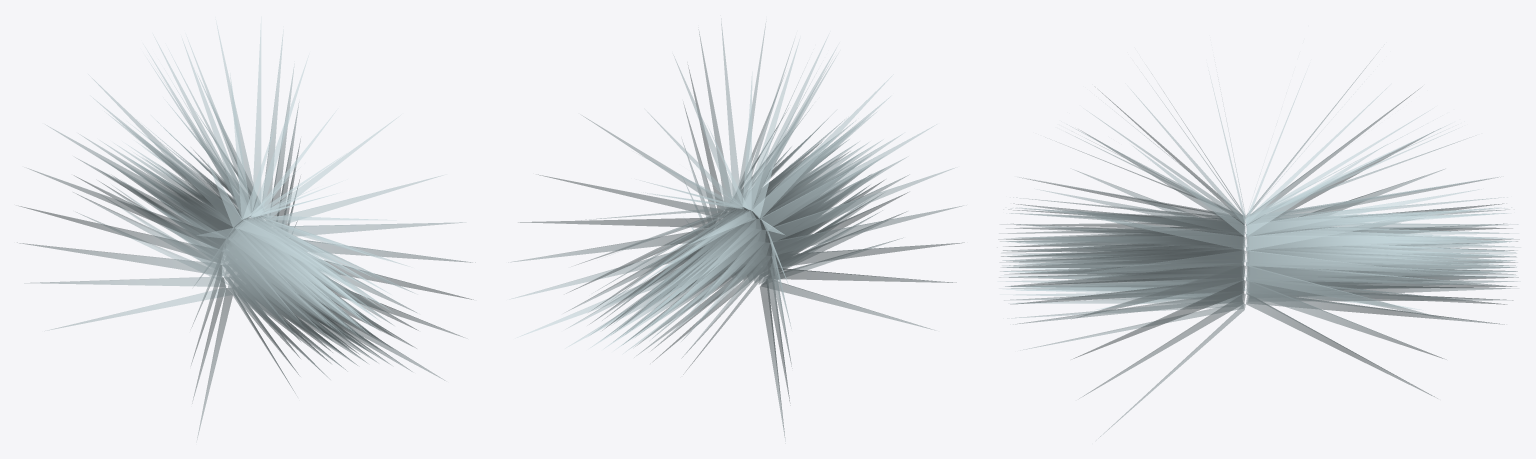
File: concave-mirror.glb
3 renders of one model, left to right at view 1: azimuth 30°, elevation 25°; view 2: azimuth 150°, elevation 25°; view 3: azimuth 270°, elevation 25°, orthographic. The views are drawn at different scales.
Parts seen in each view (by area): view 1: concave-mirror.glb; view 2: concave-mirror.glb; view 3: concave-mirror.glb.
Boxes of the visible parts, <box> form: concave-mirror.glb: <box>17,17,475,439</box>; concave-mirror.glb: <box>508,18,964,441</box>; concave-mirror.glb: <box>998,54,1520,438</box>.
Size of the model in its own units: 1.37 by 1.44 by 2.
